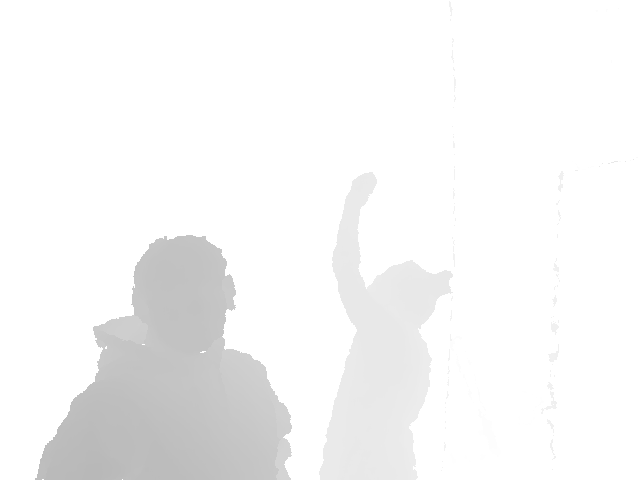hand: (343, 172, 377, 220)
head: (131, 234, 236, 357), (366, 260, 452, 340)
person: (35, 234, 294, 480), (317, 171, 453, 480)
